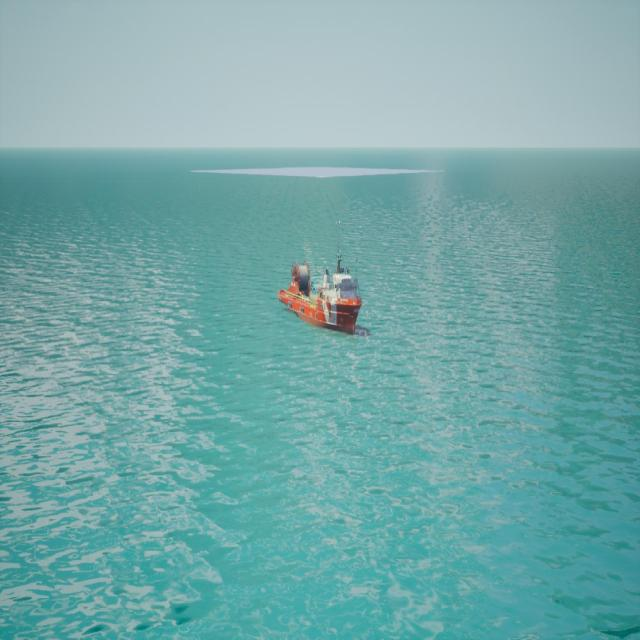tug boat: (279, 214, 368, 343)
